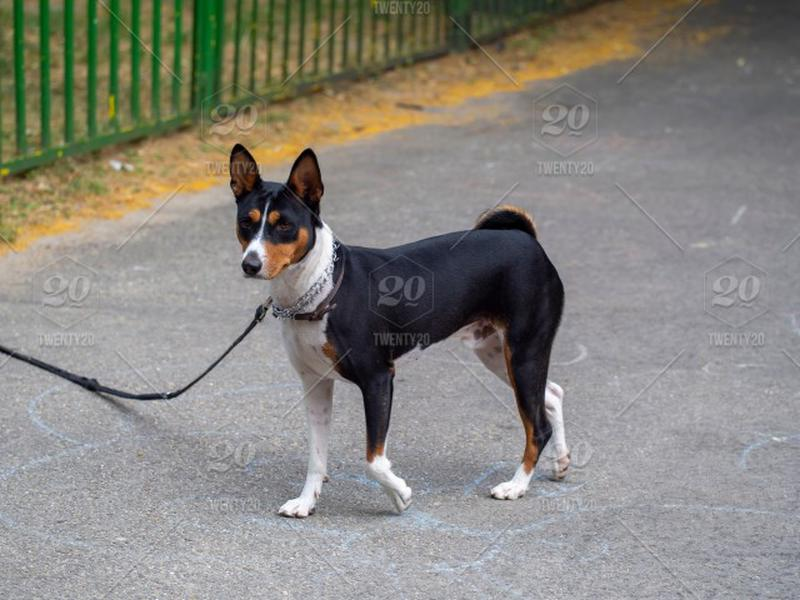dog_stand: (219, 135, 588, 528)
